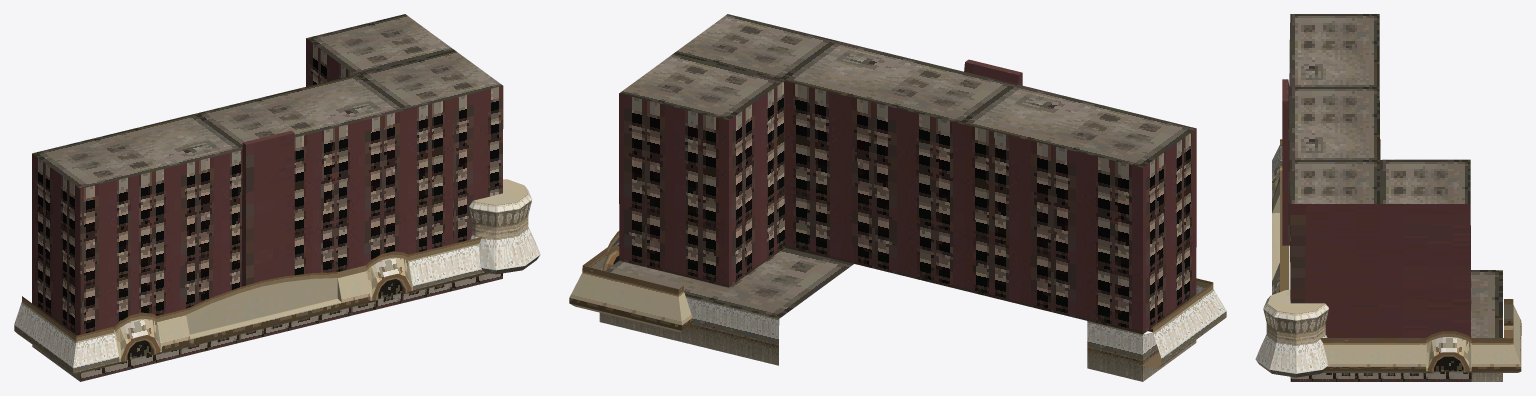
File: lodastemp1.obj
3 renders of one model, left to right at view 1: azimuth 30°, elevation 25°; view 2: azimuth 150°, elevation 25°; view 3: azimuth 270°, elevation 25°, orthographic. The views are drawn at different scales.
Visible parts, largest first — view 1: lodastemp1; view 2: lodastemp1; view 3: lodastemp1.
Boxes of the visible parts, x1,y1,x2,y2 form: lodastemp1: (14,14,540,381); lodastemp1: (569,14,1226,381); lodastemp1: (1255,14,1521,381).
Bounding box in the file's own units: 148 × 59.74 × 77.82.
3 materials, 3 textured.
